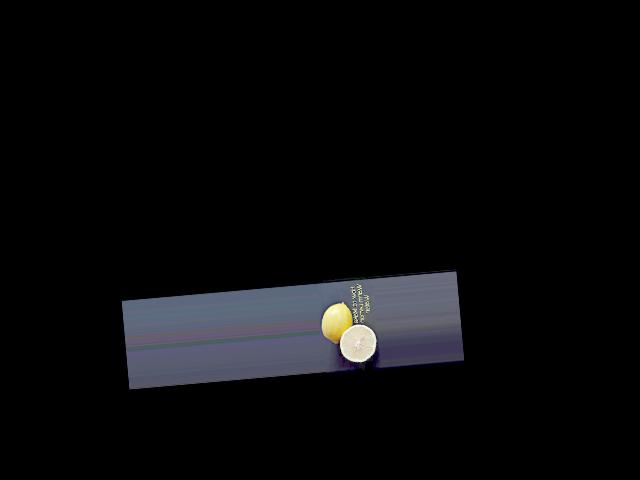lemon: (318, 299, 352, 343)
